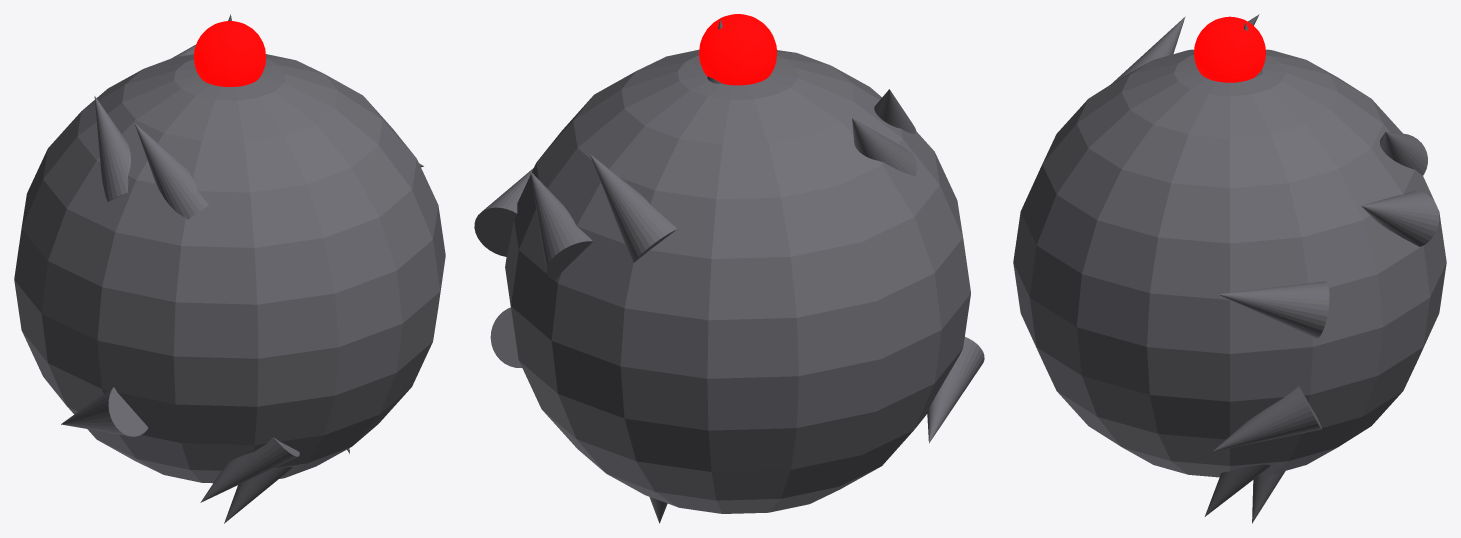
File: SewerMine.glb
3 renders of one model, left to right at view 1: azimuth 30°, elevation 25°; view 2: azimuth 150°, elevation 25°; view 3: azimuth 270°, elevation 25°, orthographic. The views are drawn at different scales.
Parts seen in each view (by area): view 1: SewerMine_Body, SewerMine_Light, SewerMine_Spike_8, SewerMine_Spike_5, SewerMine_Spike_7, SewerMine_Spike_2, SewerMine_Spike_10; view 2: SewerMine_Body, SewerMine_Light, SewerMine_Spike_1, SewerMine_Spike_11, SewerMine_Spike_7, SewerMine_Spike_4, SewerMine_Spike_5, SewerMine_Spike_0, SewerMine_Spike_8; view 3: SewerMine_Body, SewerMine_Light, SewerMine_Spike_4, SewerMine_Spike_0, SewerMine_Spike_11, SewerMine_Spike_1, SewerMine_Spike_9, SewerMine_Spike_8, SewerMine_Spike_3.
Boxes of the visible parts, box(x1,y1,x2,y2) form: SewerMine_Body: box(14, 54, 445, 483); SewerMine_Light: box(193, 21, 266, 86); SewerMine_Spike_8: box(134, 123, 208, 219); SewerMine_Spike_5: box(94, 96, 130, 201); SewerMine_Spike_7: box(61, 387, 148, 436); SewerMine_Spike_2: box(200, 437, 299, 502); SewerMine_Spike_10: box(224, 467, 291, 523); SewerMine_Body: box(505, 49, 970, 513); SewerMine_Light: box(699, 14, 776, 85); SewerMine_Spike_1: box(590, 154, 677, 262); SewerMine_Spike_11: box(530, 171, 592, 280); SewerMine_Spike_7: box(927, 337, 984, 443); SewerMine_Spike_4: box(474, 168, 533, 256); SewerMine_Spike_5: box(852, 118, 916, 175); SewerMine_Spike_0: box(490, 307, 521, 367); SewerMine_Spike_8: box(874, 89, 916, 133); SewerMine_Body: box(1013, 49, 1446, 477); SewerMine_Light: box(1194, 16, 1265, 82); SewerMine_Spike_4: box(1218, 281, 1329, 338); SewerMine_Spike_0: box(1213, 386, 1321, 451); SewerMine_Spike_11: box(1361, 191, 1439, 246); SewerMine_Spike_1: box(1380, 132, 1427, 175); SewerMine_Spike_9: box(1204, 464, 1270, 516); SewerMine_Spike_8: box(1111, 16, 1185, 83); SewerMine_Spike_3: box(1252, 471, 1285, 523).
Size of the model in its own units: 0.6117 by 0.7274 by 0.6.
